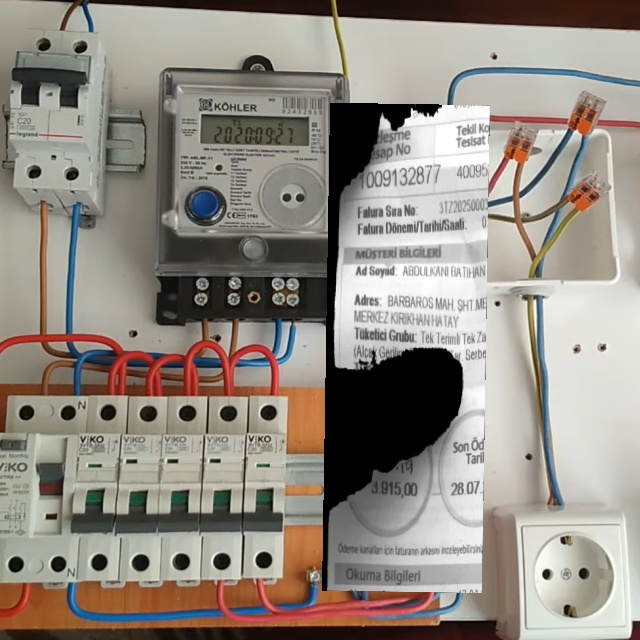electricity-bill: (322, 103, 490, 593)
